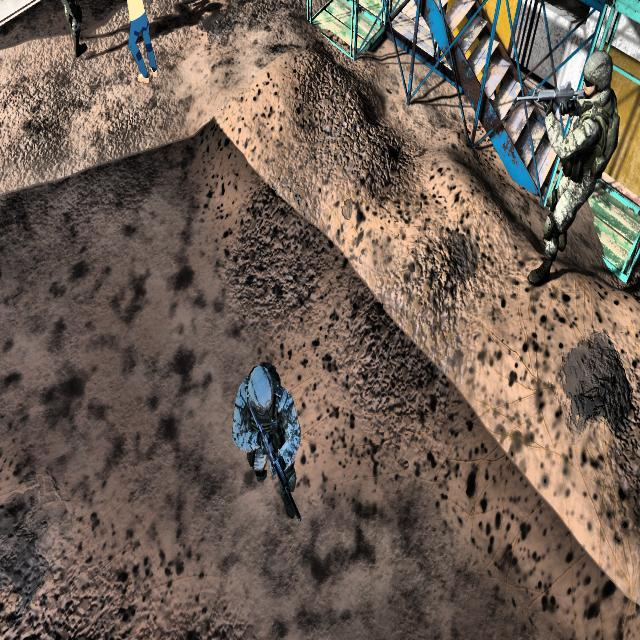bad: (527, 36, 621, 300), (227, 340, 310, 525), (55, 0, 89, 61)
good: (105, 0, 165, 84)
